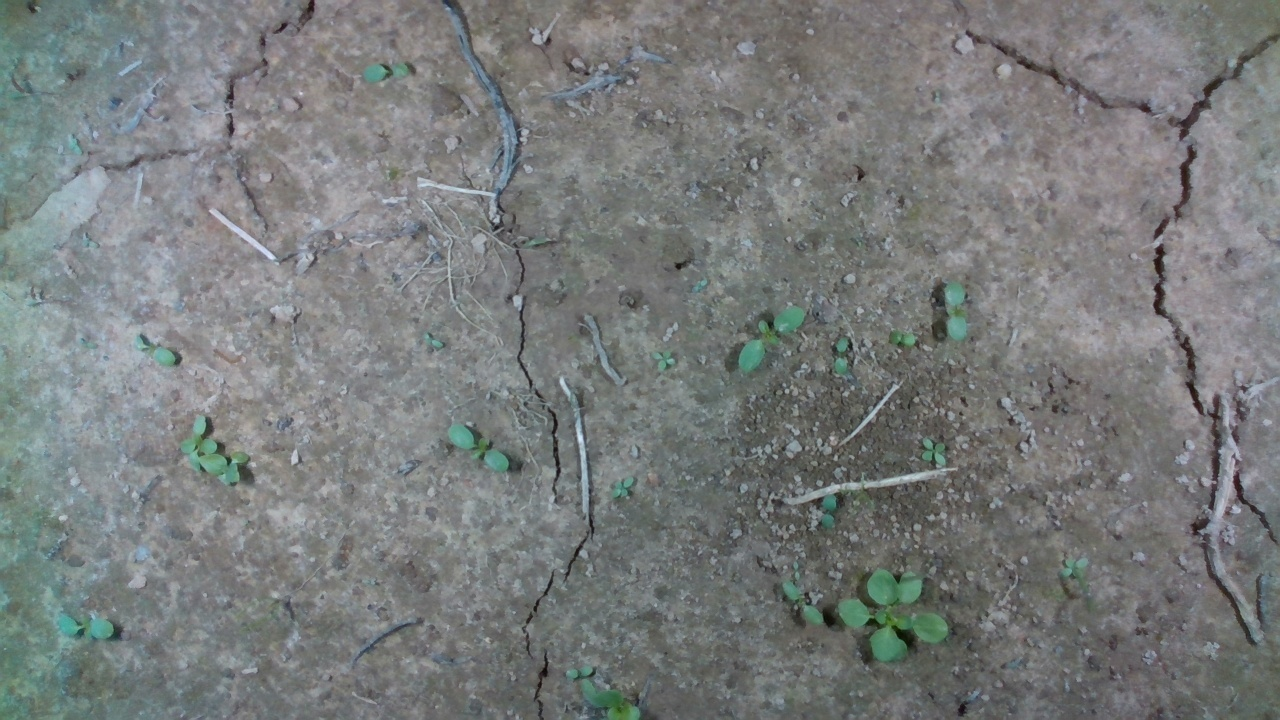weed: (736, 305, 806, 376), (444, 419, 515, 476), (55, 603, 120, 646), (780, 581, 825, 626), (130, 332, 185, 368), (942, 281, 970, 342), (918, 432, 950, 479), (358, 60, 412, 85), (832, 338, 859, 382), (644, 347, 681, 379), (891, 324, 934, 350), (1058, 550, 1089, 584), (608, 476, 632, 505), (421, 328, 439, 346)
